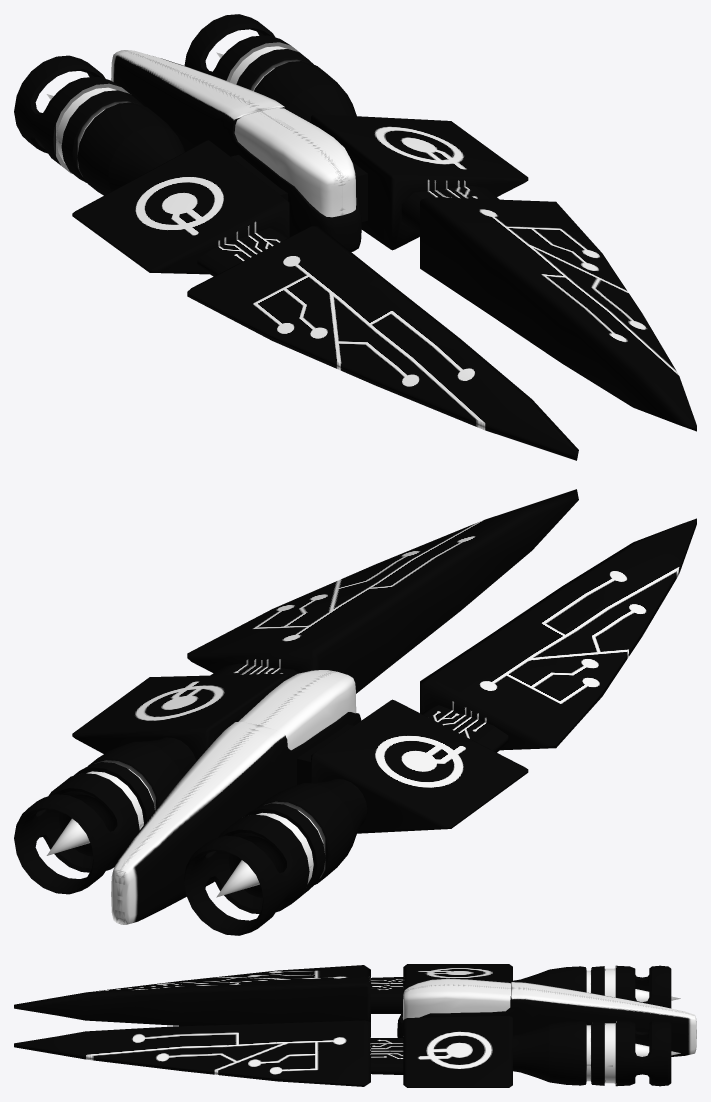
The model's file is playerShip.fbx.
3 renders of one model, top to bottom at view 1: azimuth 30°, elevation 25°; view 2: azimuth 150°, elevation 25°; view 3: azimuth 270°, elevation 25°, orthographic. The views are drawn at different scales.
Visible parts, largest first — view 1: pCube12; view 2: pCube12; view 3: pCube12.
Part boxes in pixels (x1,y1,x2,y2): pCube12: [14, 14, 696, 460]; pCube12: [14, 489, 696, 935]; pCube12: [14, 964, 696, 1087].
Size of the model in its own units: 2.63 by 0.7383 by 6.22.
